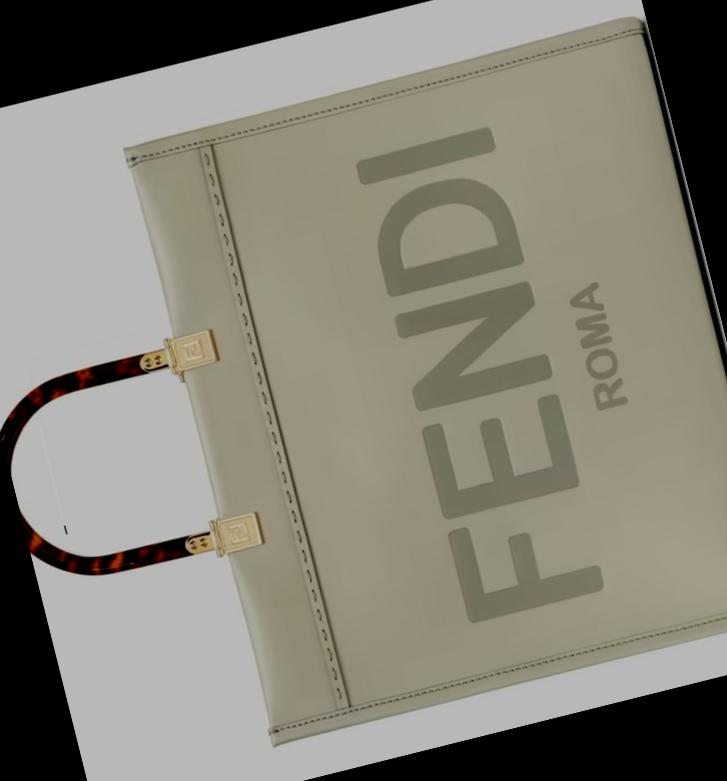FENDI: (349, 125, 605, 625)
